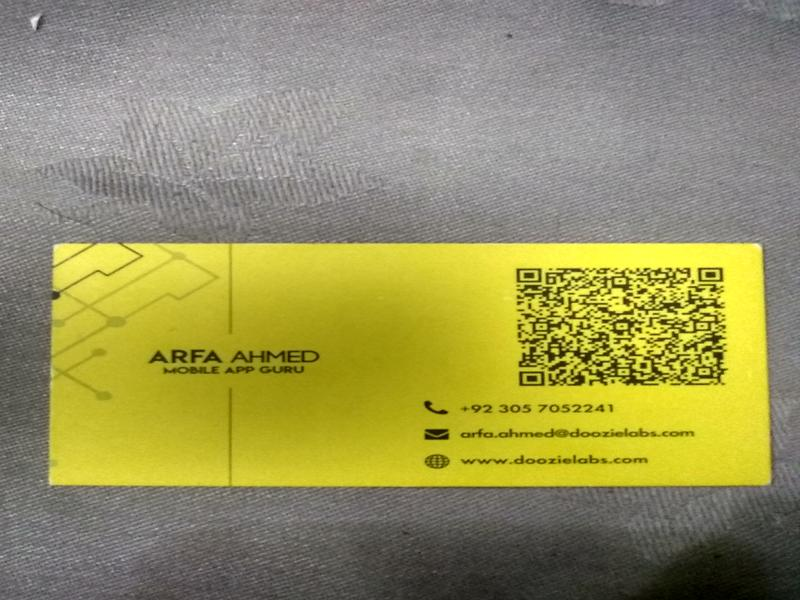front: (50, 244, 771, 484)
